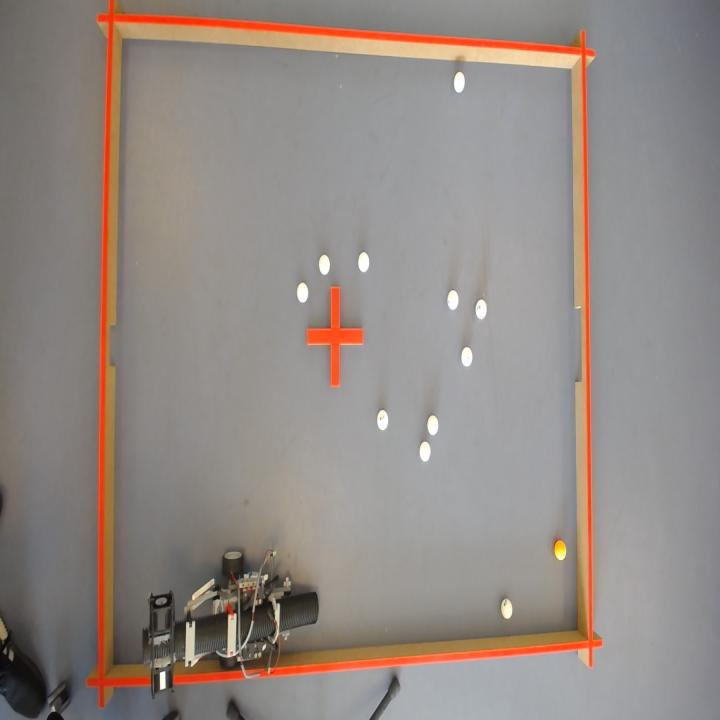orange: (555, 539, 567, 561)
robot: (142, 551, 319, 696)
white: (501, 598, 513, 620), (358, 251, 370, 272), (454, 69, 465, 91), (476, 298, 488, 318), (428, 414, 439, 435), (377, 409, 388, 430), (319, 253, 330, 274), (297, 281, 308, 302), (462, 346, 473, 366), (420, 441, 431, 461), (448, 289, 459, 308)
